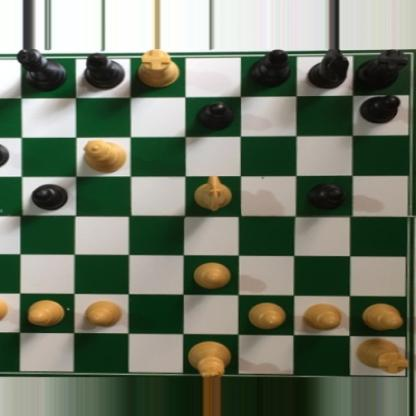black-bishop: (249, 49, 292, 90), (83, 51, 126, 91)
black-king: (13, 49, 66, 94)
black-knight: (307, 49, 351, 91)
black-pawn: (357, 93, 404, 124), (194, 100, 233, 132), (306, 181, 346, 210), (30, 181, 69, 210), (0, 139, 10, 169)
black-rook: (352, 49, 407, 91)
white-king: (186, 340, 236, 378)
white-knight: (193, 174, 234, 213)
white-pawn: (300, 302, 344, 333), (245, 300, 289, 330), (26, 296, 65, 329), (358, 300, 403, 328), (191, 262, 234, 290), (84, 298, 123, 328), (0, 294, 11, 322)
white-queen: (81, 138, 126, 172)
white-rook: (354, 335, 407, 374), (136, 49, 175, 90)
